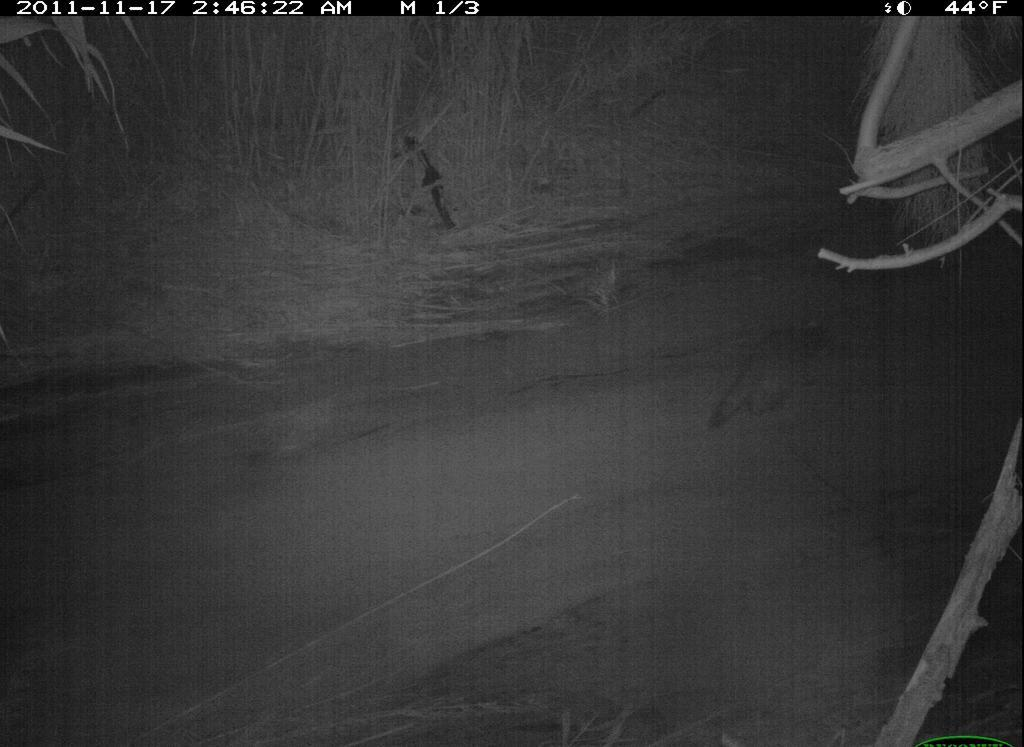raccoon: (675, 301, 857, 454)
